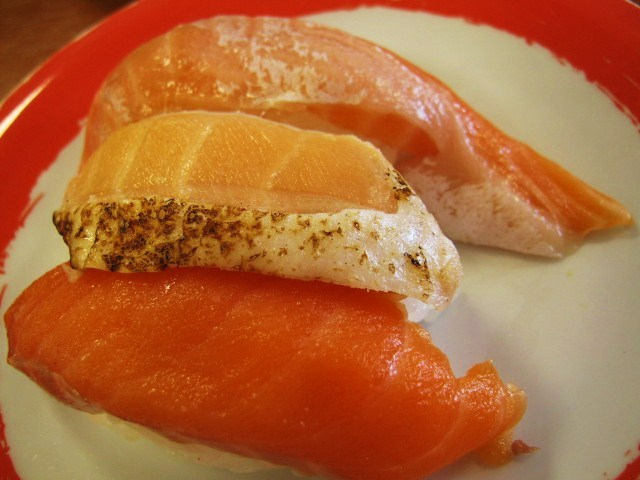salmon: (9, 264, 523, 480)
